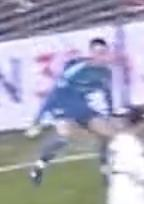goalkeeper: (15, 25, 130, 191)
